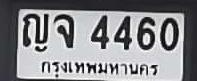0: (160, 17, 178, 50)
4: (113, 15, 131, 49), (90, 14, 108, 47)
6: (137, 16, 154, 49)
A08: (53, 13, 73, 47)
A13: (22, 12, 49, 53)
BKK: (37, 57, 161, 80)
